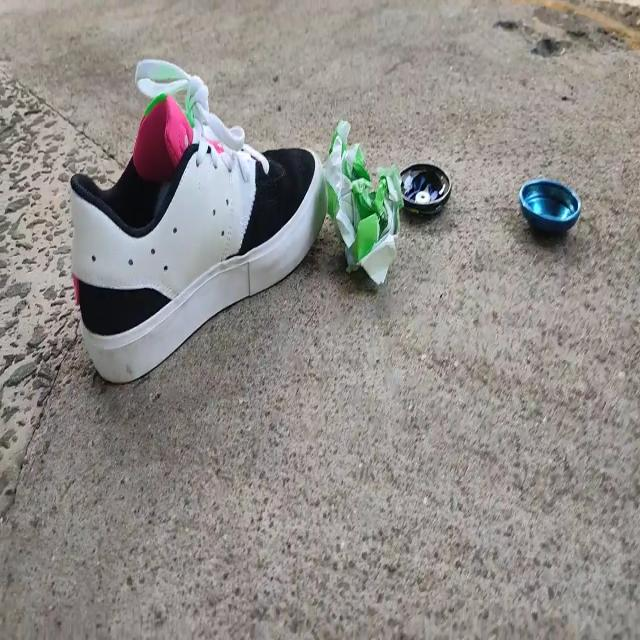paper: (321, 109, 407, 288)
